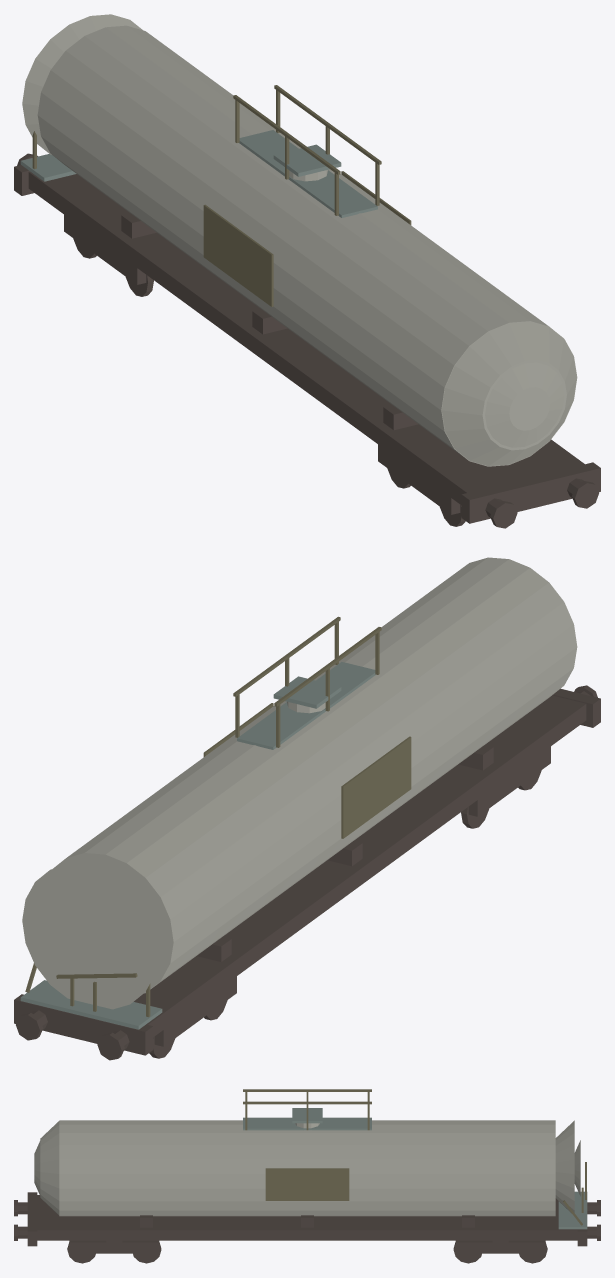
File: SM_VagonCisterna_v2_SinEscalera_LOD0.fbx
3 renders of one model, top to bottom at view 1: azimuth 30°, elevation 25°; view 2: azimuth 150°, elevation 25°; view 3: azimuth 270°, elevation 25°, orthographic. The views are drawn at different scales.
Parts seen in each view (by area): view 1: SM_bloques.vagon_cisterna_v2_LOD0; view 2: SM_bloques.vagon_cisterna_v2_LOD0; view 3: SM_bloques.vagon_cisterna_v2_LOD0.
Part boxes in pixels (<box>): SM_bloques.vagon_cisterna_v2_LOD0: <box>14,14,600,528</box>; SM_bloques.vagon_cisterna_v2_LOD0: <box>14,557,600,1060</box>; SM_bloques.vagon_cisterna_v2_LOD0: <box>14,1089,600,1263</box>.
Size of the model in its own units: 3.08 by 5.33 by 18.24.
